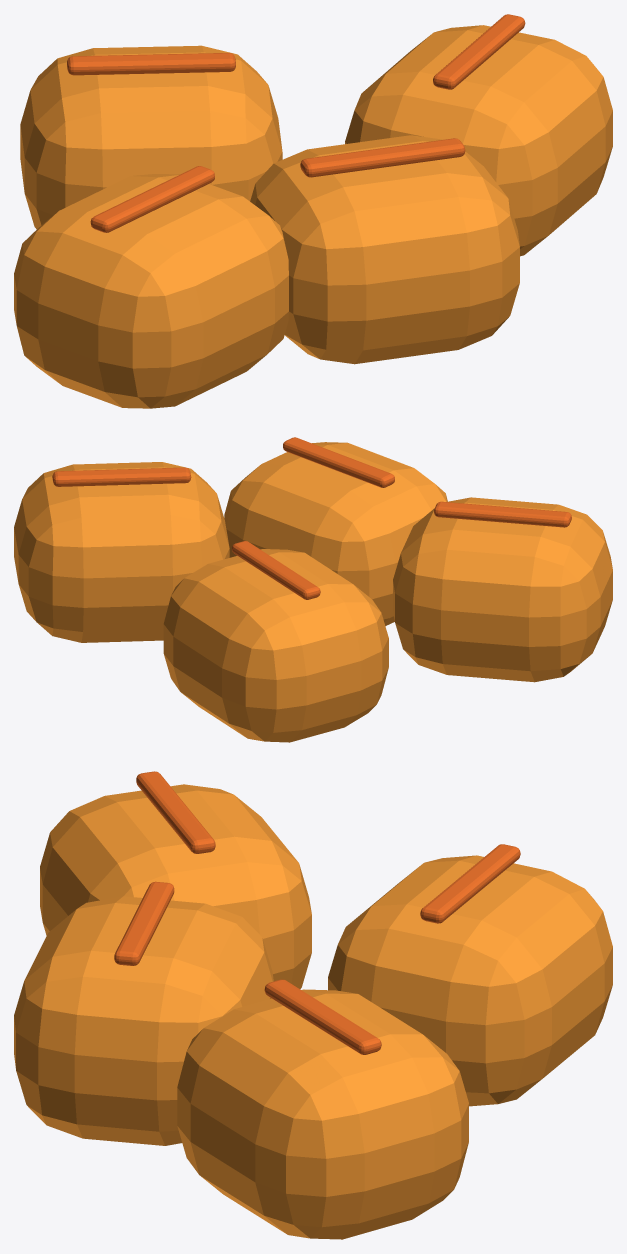
The model's file is CarrotChopped.fbx.
3 renders of one model, top to bottom at view 1: azimuth 30°, elevation 25°; view 2: azimuth 150°, elevation 25°; view 3: azimuth 270°, elevation 25°, orthographic. The views are drawn at different scales.
Visible parts, largest first — view 1: MAT_Carrot Geometry.001, MAT_CarrotGroove Geometry.001; view 2: MAT_Carrot Geometry.001, MAT_CarrotGroove Geometry.001; view 3: MAT_Carrot Geometry.001, MAT_CarrotGroove Geometry.001.
Part boxes in pixels (x1,y1,x2,y2): MAT_Carrot Geometry.001: [14, 25, 612, 408]; MAT_CarrotGroove Geometry.001: [67, 14, 525, 232]; MAT_Carrot Geometry.001: [14, 442, 612, 742]; MAT_CarrotGroove Geometry.001: [52, 437, 571, 599]; MAT_Carrot Geometry.001: [14, 784, 612, 1239]; MAT_CarrotGroove Geometry.001: [114, 771, 520, 1054].
Size of the model in its own units: 74.14 by 20.4 by 56.94.
